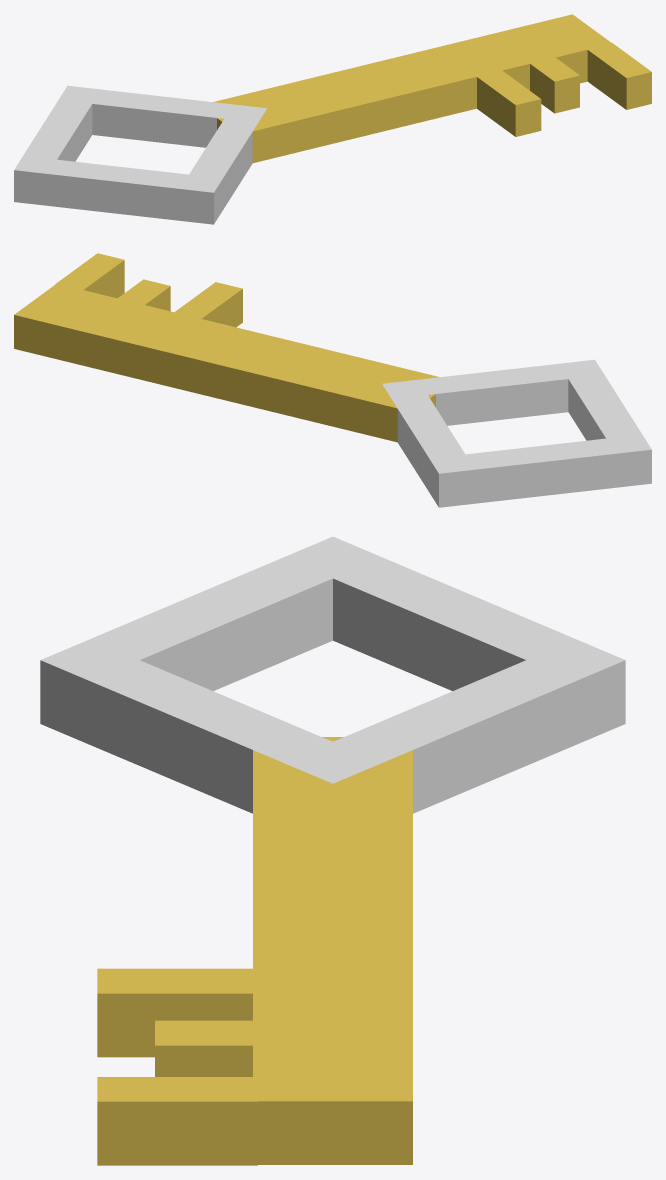
The model's file is key.glb.
The picture shows the model from 3 angles, top to bottom: view 1: azimuth 30°, elevation 25°; view 2: azimuth 150°, elevation 25°; view 3: azimuth 270°, elevation 25°; orthographic projection. The views are drawn at different scales.
Parts seen in each view (by area): view 1: Cube.004, Cube, Cube.003, Cube.001, Cube.002; view 2: Cube, Cube.004, Cube.001, Cube.003, Cube.002; view 3: Cube.004, Cube, Cube.001, Cube.003, Cube.002.
Part boxes in pixels (left/top/right/bottom): Cube.004: left=14, top=85, right=266, bottom=224; Cube: left=213, top=14, right=612, bottom=163; Cube.003: left=476, top=69, right=541, bottom=136; Cube.001: left=587, top=43, right=651, bottom=109; Cube.002: left=529, top=57, right=579, bottom=113; Cube: left=14, top=284, right=439, bottom=442; Cube.004: left=382, top=359, right=651, bottom=507; Cube.001: left=55, top=253, right=124, bottom=298; Cube.003: left=174, top=282, right=242, bottom=327; Cube.002: left=117, top=279, right=170, bottom=311; Cube.004: left=40, top=536, right=625, bottom=813; Cube: left=253, top=737, right=412, bottom=1164; Cube.001: left=97, top=1077, right=257, bottom=1165; Cube.003: left=97, top=968, right=257, bottom=1057; Cube.002: left=155, top=1020, right=259, bottom=1076.
Bounding box in the file's own units: 4.94 × 0.26 × 2.16.
